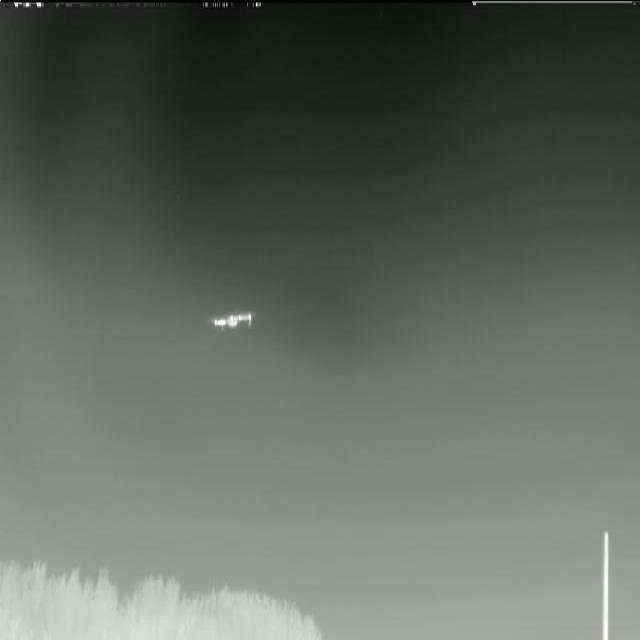DRONE: (198, 300, 266, 342)
